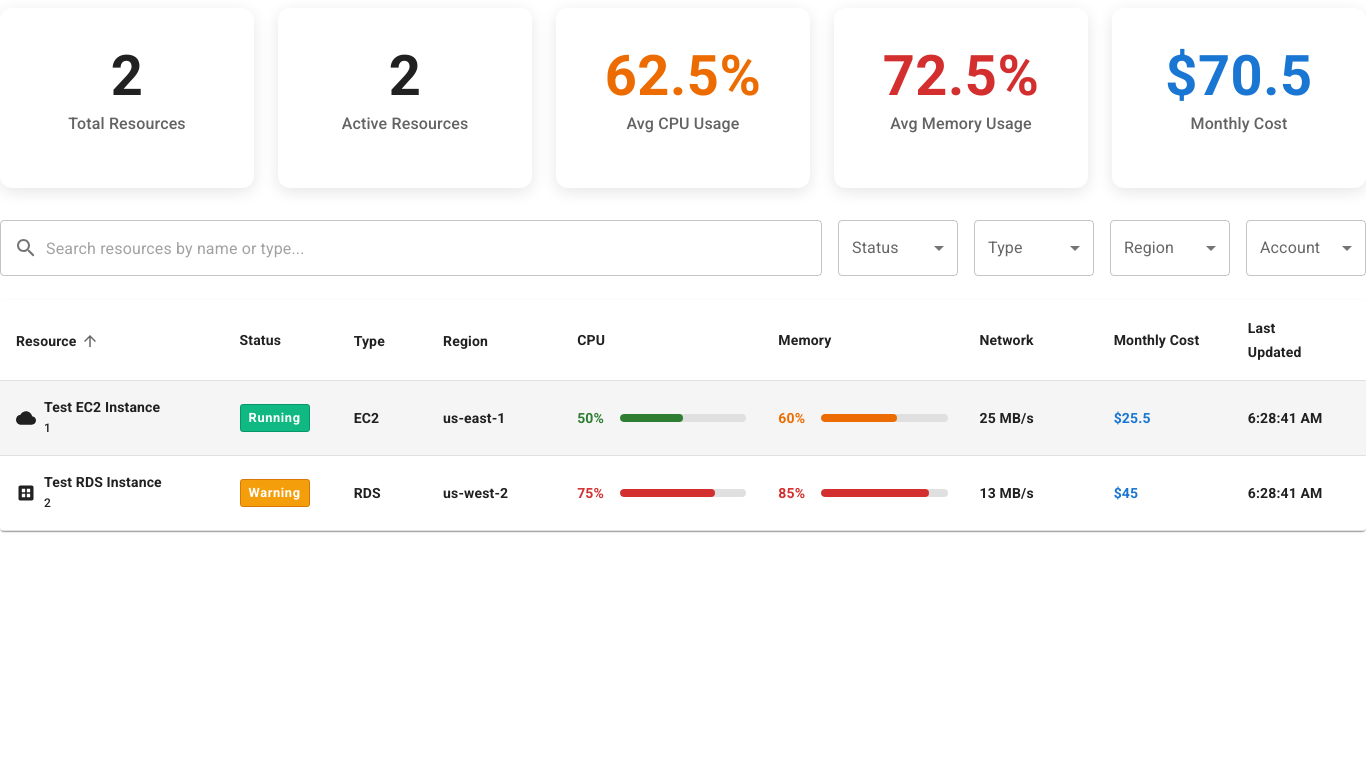
it: ResourceTable Component › filters resources by search term
Type "EC2" into the field with placeholder "Search resources by name or type...".
click(434, 248); type("EC2")  # box [46,220,822,276]
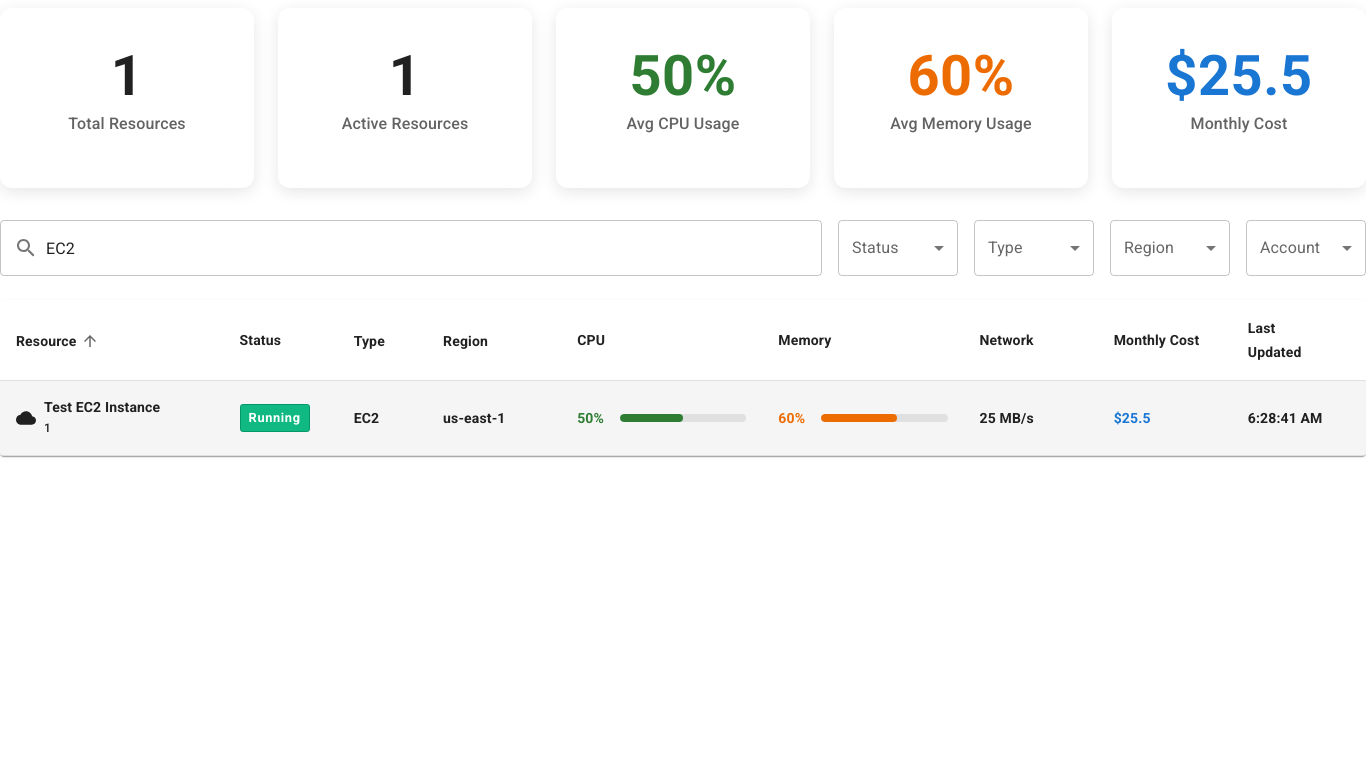
Expected: the text "Test EC2 Instance" is shown, [44,397,160,417]
Now the text "Test RDS Instance" is gone
